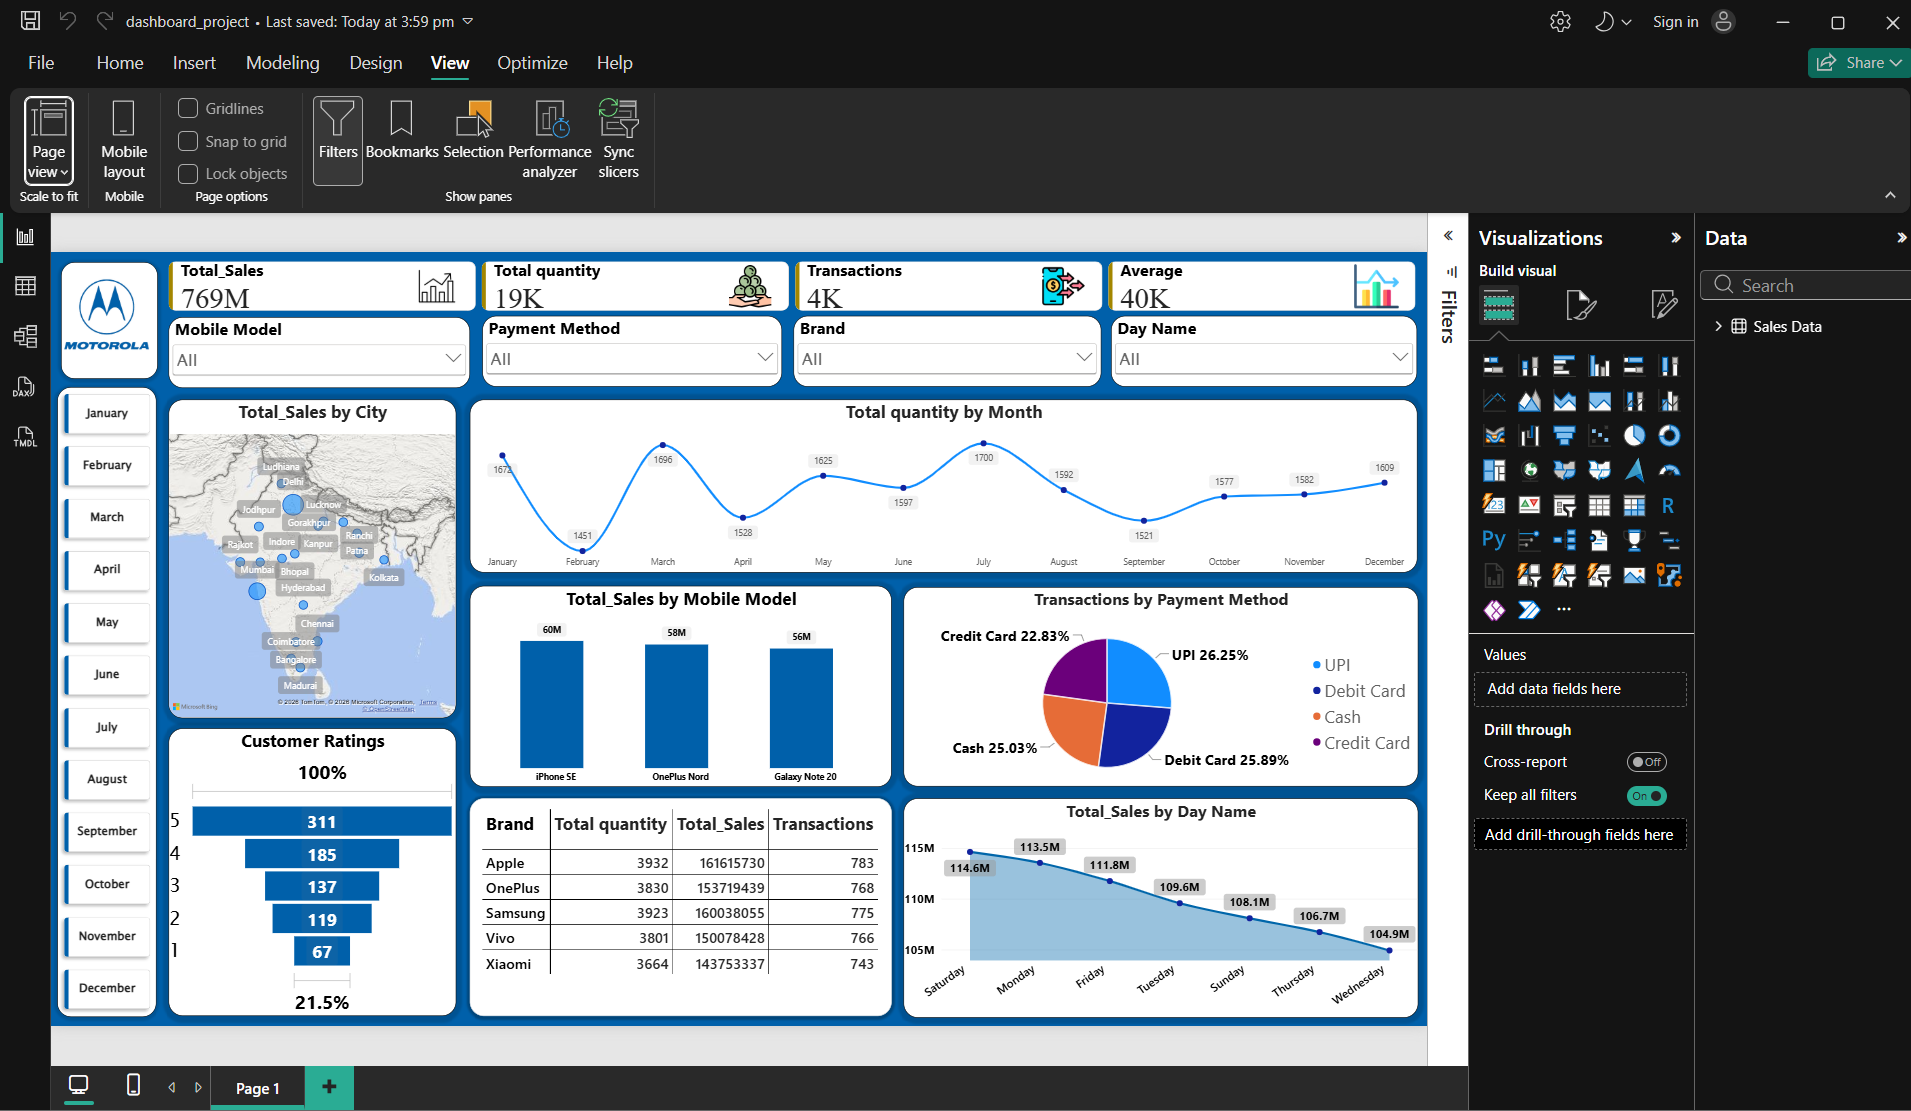

Layout of this report page (visuals, bound fields, positions):
{"tool":"powerbi","page":{"name":"Page 1","canvas":[1920,1080],"ordinal":0},"visuals":[{"type":"shape","box":[13.3,13.3,135,163.3],"z":0},{"type":"shape","box":[8.6,187.7,138.7,878.9],"z":2000},{"type":"advancedSlicerVisual","fields":{"Values":["Sales Data.Date.Variation.Date Hierarchy.Month"]},"box":[10.8,189.8,136.9,878.9],"z":3000},{"type":"cardVisual","fields":{"Data":["Sales Data.Total_Sales","Sales Data.Total quantity","Sales Data.Transactions","Sales Data.Average"]},"box":[164,12.9,1743.1,90.6],"z":4000},{"type":"map","title":"Total_Sales by City","fields":{"Category":["Sales Data.City"],"Size":["Sales Data.Total_Sales"]},"box":[164,204.9,401.3,444.4],"z":5000},{"type":"lineChart","fields":{"Category":["Sales Data.Date.Variation.Date Hierarchy.Month","Sales Data.Date.Variation.Date Hierarchy.Day"],"Y":["Sales Data.Total quantity"]},"box":[584.6,204.9,1322.4,241.6],"z":6000},{"type":"clusteredColumnChart","fields":{"Category":["Sales Data.Mobile Model"],"Y":["Sales Data.Total_Sales"]},"box":[584.6,466,588.9,280.4],"z":7000},{"type":"pieChart","fields":{"Category":["Sales Data.Payment Method"],"Y":["Sales Data.Transactions"]},"box":[1188.7,468.1,718.4,278.3],"z":8000},{"type":"funnel","title":"Customer Ratings","fields":{"Category":["Sales Data.Customer Ratings"],"Y":["CountNonNull(Sales Data.Customer Ratings)"]},"box":[164,664.4,401.3,401.3],"z":9000},{"type":"areaChart","fields":{"Category":["Sales Data.Day Name"],"Y":["Sales Data.Total_Sales"]},"box":[1188.7,761.5,718.4,306.3],"z":10000},{"type":"tableEx","fields":{"Values":["Sales Data.Brand","Sales Data.Total quantity","Sales Data.Total_Sales","Sales Data.Transactions"]},"box":[584.6,761.5,588.9,304.2],"z":11000},{"type":"slicer","fields":{"Values":["Sales Data.Brand"]},"box":[1035.5,88.4,429.3,99.2],"z":13000},{"type":"slicer","fields":{"Values":["Sales Data.Payment Method"]},"box":[601.9,88.4,418.5,99.2],"z":14000},{"type":"slicer","fields":{"Values":["Sales Data.Day Name"]},"box":[1479.9,88.4,427.1,99.2],"z":15000},{"type":"slicer","fields":{"Values":["Sales Data.Mobile Model"]},"box":[164,90.6,420.7,99.2],"z":16000},{"type":"image","box":[0,28,155.3,118.7],"z":17000}]}

Visuals, with their boxes on the page's 1920x1080 design canvas (x1, y1, x2, y2). These are canvas units, not pixel positions in the 1911x1111 screenshot, which may show the page scaled, cropped or inside an application window:
shape: <region>13, 13, 148, 177</region>
shape: <region>9, 188, 147, 1067</region>
advancedSlicerVisual - Sales Data.Date.Variation.Date Hierarchy.Month: <region>11, 190, 148, 1069</region>
cardVisual - Sales Data.Total_Sales x Sales Data.Total quantity: <region>164, 13, 1907, 104</region>
"Total_Sales by City" map: <region>164, 205, 565, 649</region>
lineChart - Sales Data.Date.Variation.Date Hierarchy.Month x Sales Data.Date.Variation.Date Hierarchy.Day: <region>585, 205, 1907, 446</region>
clusteredColumnChart - Sales Data.Mobile Model x Sales Data.Total_Sales: <region>585, 466, 1174, 746</region>
pieChart - Sales Data.Payment Method x Sales Data.Transactions: <region>1189, 468, 1907, 746</region>
"Customer Ratings" funnel: <region>164, 664, 565, 1066</region>
areaChart - Sales Data.Day Name x Sales Data.Total_Sales: <region>1189, 762, 1907, 1068</region>
tableEx - Sales Data.Brand x Sales Data.Total quantity: <region>585, 762, 1174, 1066</region>
slicer - Sales Data.Brand: <region>1036, 88, 1465, 188</region>
slicer - Sales Data.Payment Method: <region>602, 88, 1020, 188</region>
slicer - Sales Data.Day Name: <region>1480, 88, 1907, 188</region>
slicer - Sales Data.Mobile Model: <region>164, 91, 585, 190</region>
image: <region>0, 28, 155, 147</region>
